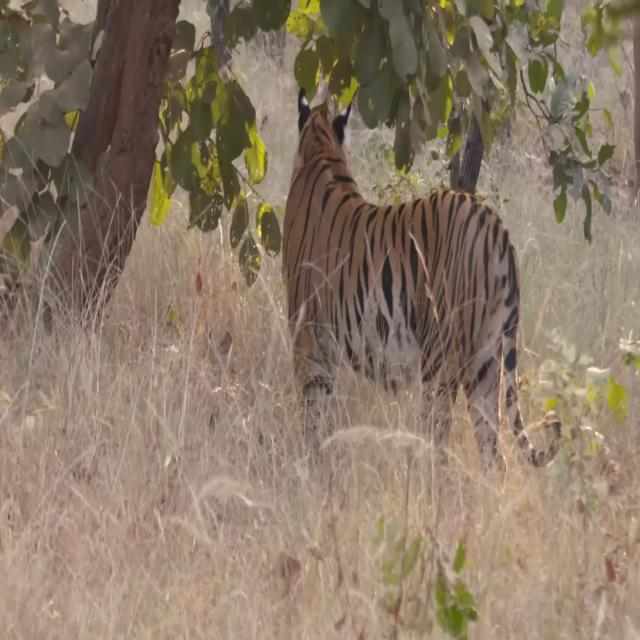tiger: (280, 83, 562, 492)
